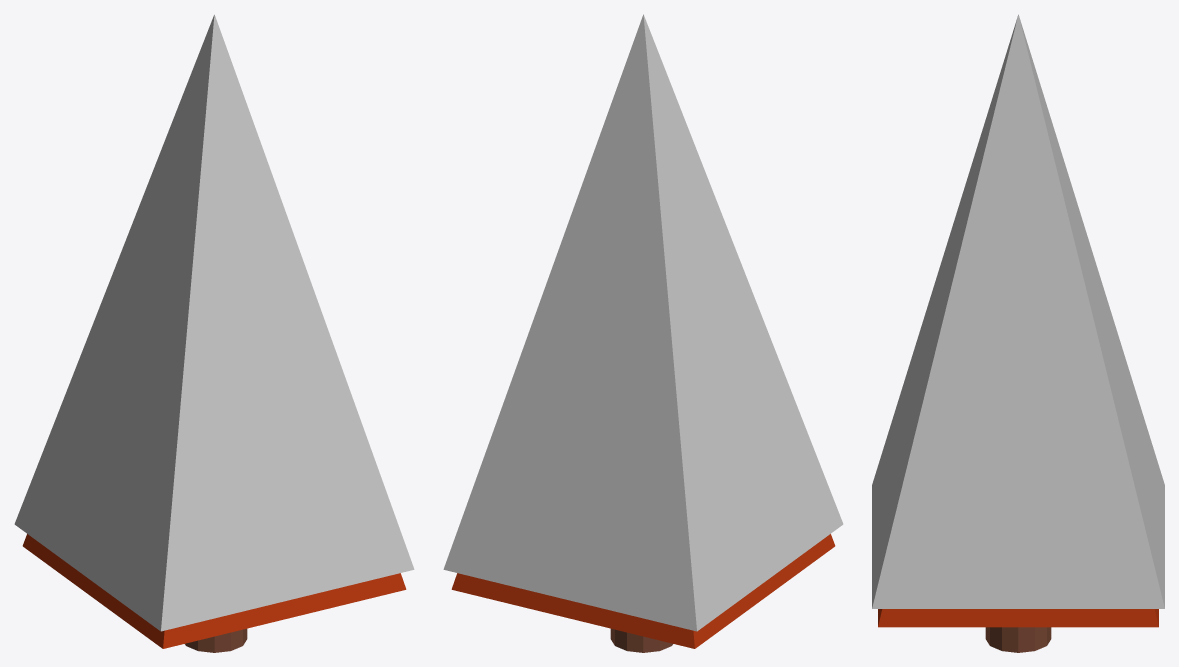
Rendered from Tree_36_winter_red_mat.fbx.
The picture shows the model from 3 angles, left to right: view 1: azimuth 30°, elevation 25°; view 2: azimuth 150°, elevation 25°; view 3: azimuth 270°, elevation 25°; orthographic projection.
Visible parts, largest first — view 1: Tree_36_winter_red_mat; view 2: Tree_36_winter_red_mat; view 3: Tree_36_winter_red_mat.
Part boxes in pixels (left/top/right/bottom): Tree_36_winter_red_mat: left=14, top=14, right=414, bottom=652; Tree_36_winter_red_mat: left=443, top=14, right=843, bottom=652; Tree_36_winter_red_mat: left=872, top=14, right=1164, bottom=652.
Size of the model in its own units: 71.97 by 169 by 71.97.
